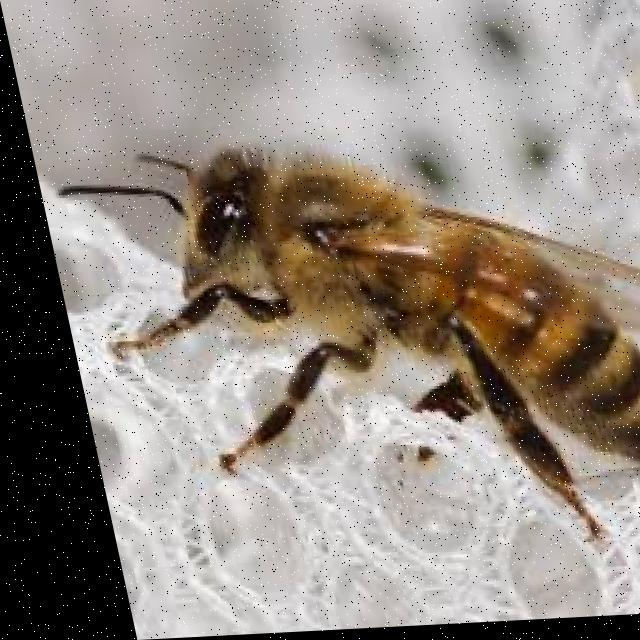Apis-mellifera-scutellata: (39, 111, 640, 565)
